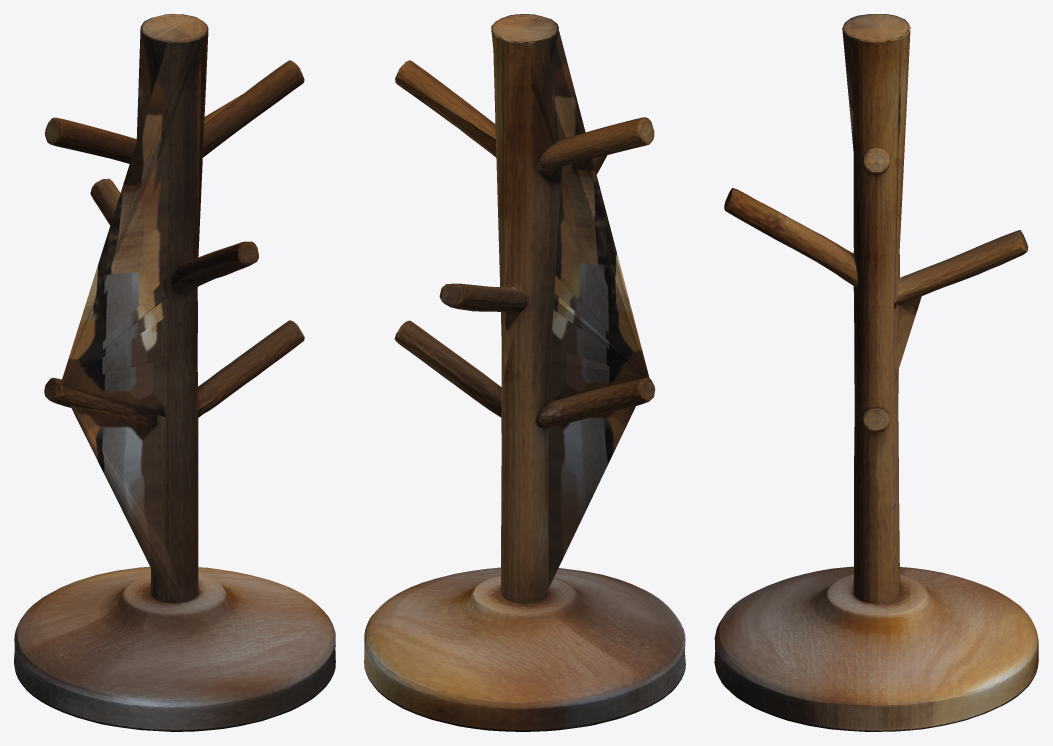
Rendered from mug_tree_repaired.obj.
The picture shows the model from 3 angles, left to right: view 1: azimuth 30°, elevation 25°; view 2: azimuth 150°, elevation 25°; view 3: azimuth 270°, elevation 25°; orthographic projection.
Visible parts, largest first — view 1: mug_tree.obj; view 2: mug_tree.obj; view 3: mug_tree.obj.
Boxes of the visible parts, x1=… form: mug_tree.obj: x1=14, y1=14, x2=335, y2=731; mug_tree.obj: x1=364, y1=14, x2=685, y2=731; mug_tree.obj: x1=714, y1=14, x2=1038, y2=731.
Bounding box in the file's own units: 0.4613 × 1 × 0.4617.
1 material, 1 textured.
